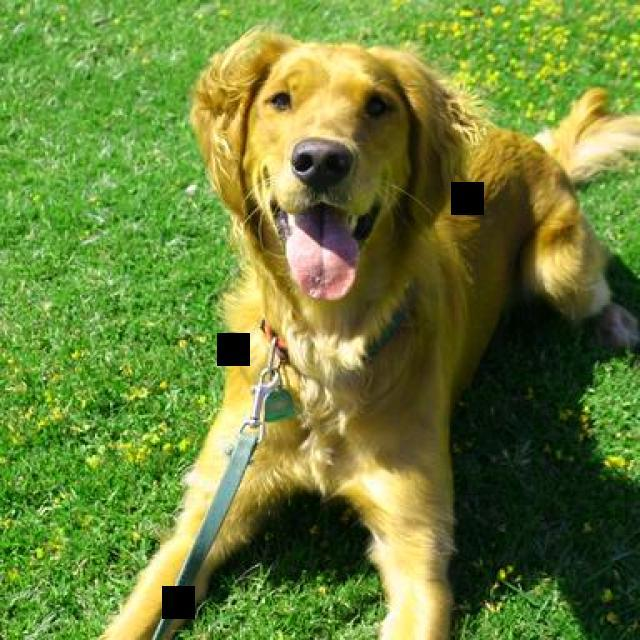adult_dog: (93, 23, 640, 640)
